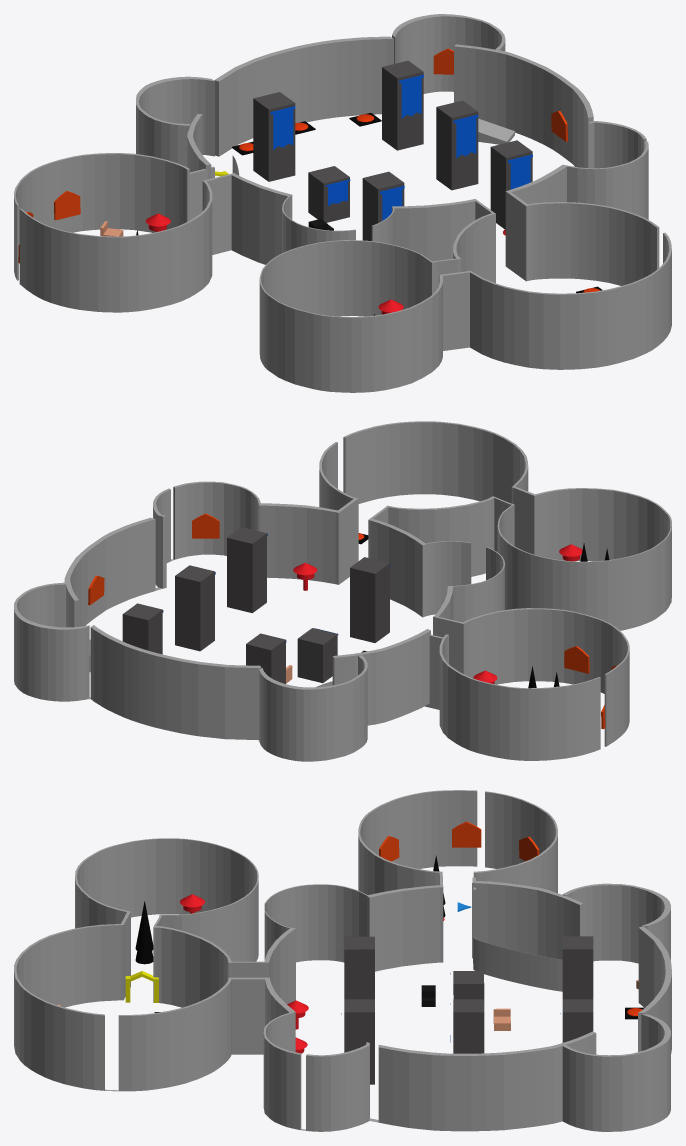
The model's file is Hor_Concept_Greybox_SecondFloor.fbx.
The picture shows the model from 3 angles, top to bottom: view 1: azimuth 30°, elevation 25°; view 2: azimuth 150°, elevation 25°; view 3: azimuth 270°, elevation 25°; orthographic projection. The views are drawn at different scales.
Visible parts, largest first — view 1: Plane.008, Plane.012, Plane.011, Plane.020, Plane.021, Plane.009, Plane.025, Plane.017, Plane.026, Plane.013, Plane.016, Plane.015 (+15 smaller); view 2: Plane.020, Plane.012, Plane.009, Plane.008, Plane.021, Plane.026, Plane.011, Plane.016, Plane.015, Plane.017, Plane.013, Plane.018 (+15 smaller); view 3: Plane.017, Plane.012, Plane.021, Plane.008, Plane.015, Plane.013, Plane.025, Plane.018, Plane.010, Plane.011, Plane.009, Plane.016 (+15 smaller).
Part boxes in pixels (x1=…): Plane.008: x1=19, y1=180, x2=212, y2=312; Plane.012: x1=482, y1=232, x2=671, y2=369; Plane.011: x1=278, y1=274, x2=442, y2=392; Plane.020: x1=214, y1=36, x2=393, y2=156; Plane.021: x1=259, y1=240, x2=433, y2=376; Plane.009: x1=14, y1=153, x2=189, y2=280; Plane.025: x1=524, y1=202, x2=659, y2=285; Plane.017: x1=454, y1=44, x2=593, y2=168; Plane.026: x1=393, y1=165, x2=566, y2=279; Plane.013: x1=562, y1=121, x2=648, y2=219; Plane.016: x1=136, y1=76, x2=214, y2=166; Plane.015: x1=392, y1=14, x2=505, y2=93; Plane.020: x1=87, y1=625, x2=260, y2=740; Plane.012: x1=343, y1=421, x2=528, y2=503; Plane.009: x1=439, y1=634, x2=600, y2=760; Plane.008: x1=461, y1=608, x2=629, y2=746; Plane.021: x1=497, y1=504, x2=665, y2=630; Plane.026: x1=261, y1=499, x2=425, y2=616; Plane.011: x1=532, y1=488, x2=671, y2=610; Plane.016: x1=259, y1=655, x2=367, y2=761; Plane.015: x1=14, y1=582, x2=89, y2=701; Plane.017: x1=64, y1=517, x2=162, y2=627; Plane.013: x1=153, y1=481, x2=261, y2=588; Plane.018: x1=332, y1=629, x2=430, y2=725; Plane.017: x1=369, y1=1031, x2=596, y2=1131; Plane.012: x1=14, y1=925, x2=104, y2=1090; Plane.021: x1=156, y1=838, x2=258, y2=961; Plane.008: x1=358, y1=790, x2=477, y2=894; Plane.015: x1=562, y1=1014, x2=670, y2=1131; Plane.013: x1=263, y1=1011, x2=369, y2=1131; Plane.025: x1=105, y1=977, x2=231, y2=1091; Plane.018: x1=472, y1=881, x2=583, y2=959; Plane.010: x1=264, y1=884, x2=370, y2=1000; Plane.011: x1=75, y1=838, x2=155, y2=987; Plane.009: x1=473, y1=791, x2=557, y2=893; Plane.016: x1=562, y1=883, x2=670, y2=963.
Bounding box in the file's own units: 27.62 × 3.86 × 28.82.
